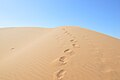human_foot_print: (56, 69, 65, 79), (59, 56, 67, 64), (64, 49, 73, 55), (72, 43, 79, 47), (64, 49, 71, 52), (10, 47, 14, 52), (70, 39, 76, 42)
